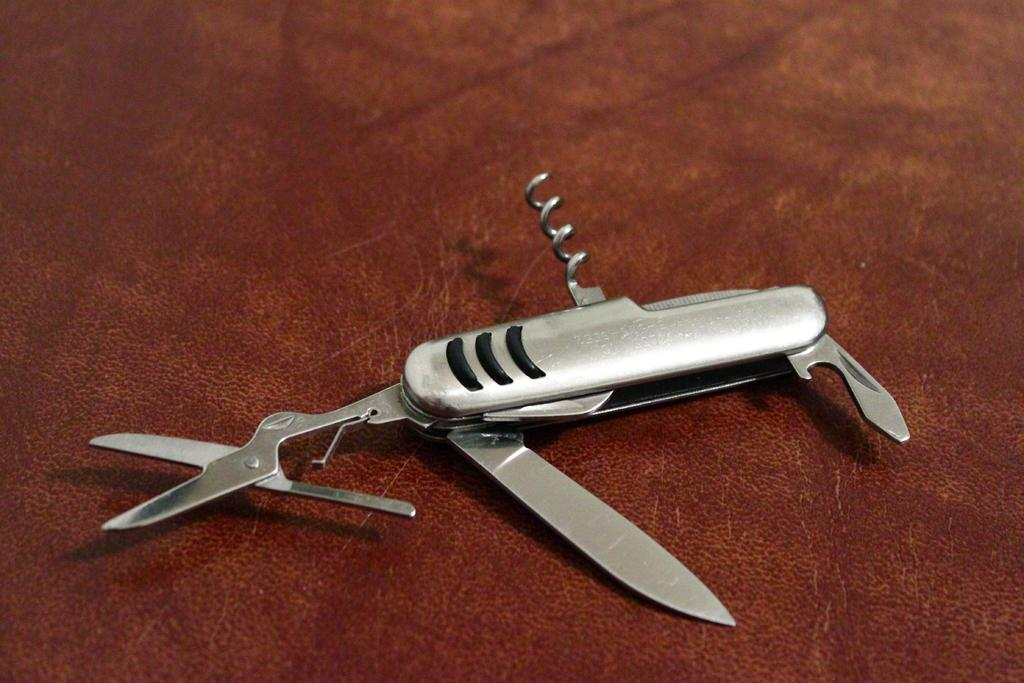knife: (82, 167, 918, 628)
